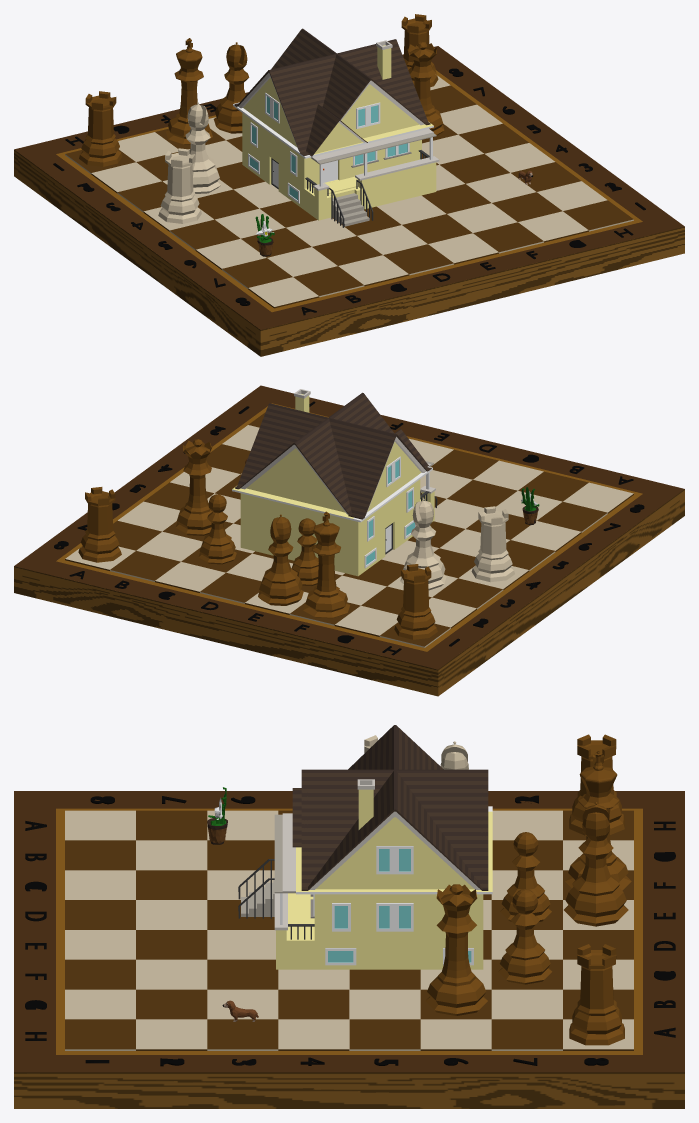
The picture shows the model from 3 angles, top to bottom: view 1: azimuth 30°, elevation 25°; view 2: azimuth 150°, elevation 25°; view 3: azimuth 270°, elevation 25°; orthographic projection. The views are drawn at different scales.
Parts seen in each view (by area): view 1: Cube.002, Cube.1555, OBJRANDOM_MONJA BLANCA; view 2: Cube.002, Cube.1555, OBJRANDOM_MONJA BLANCA; view 3: Cube.002, Cube.1555, OBJRANDOM_MONJA BLANCA.
Boxes of the visible parts, x1,y1,x2,y2 form: Cube.002: (14, 14, 684, 356); Cube.1555: (233, 28, 439, 227); OBJRANDOM_MONJA BLANCA: (255, 214, 274, 256); Cube.002: (14, 385, 684, 696); Cube.1555: (232, 389, 437, 576); OBJRANDOM_MONJA BLANCA: (521, 487, 539, 525); Cube.002: (14, 734, 684, 1108); Cube.1555: (238, 725, 492, 969); OBJRANDOM_MONJA BLANCA: (207, 787, 227, 844).
Size of the model in its own units: 3981 by 1584 by 4012.
29 materials, 2 textured.
